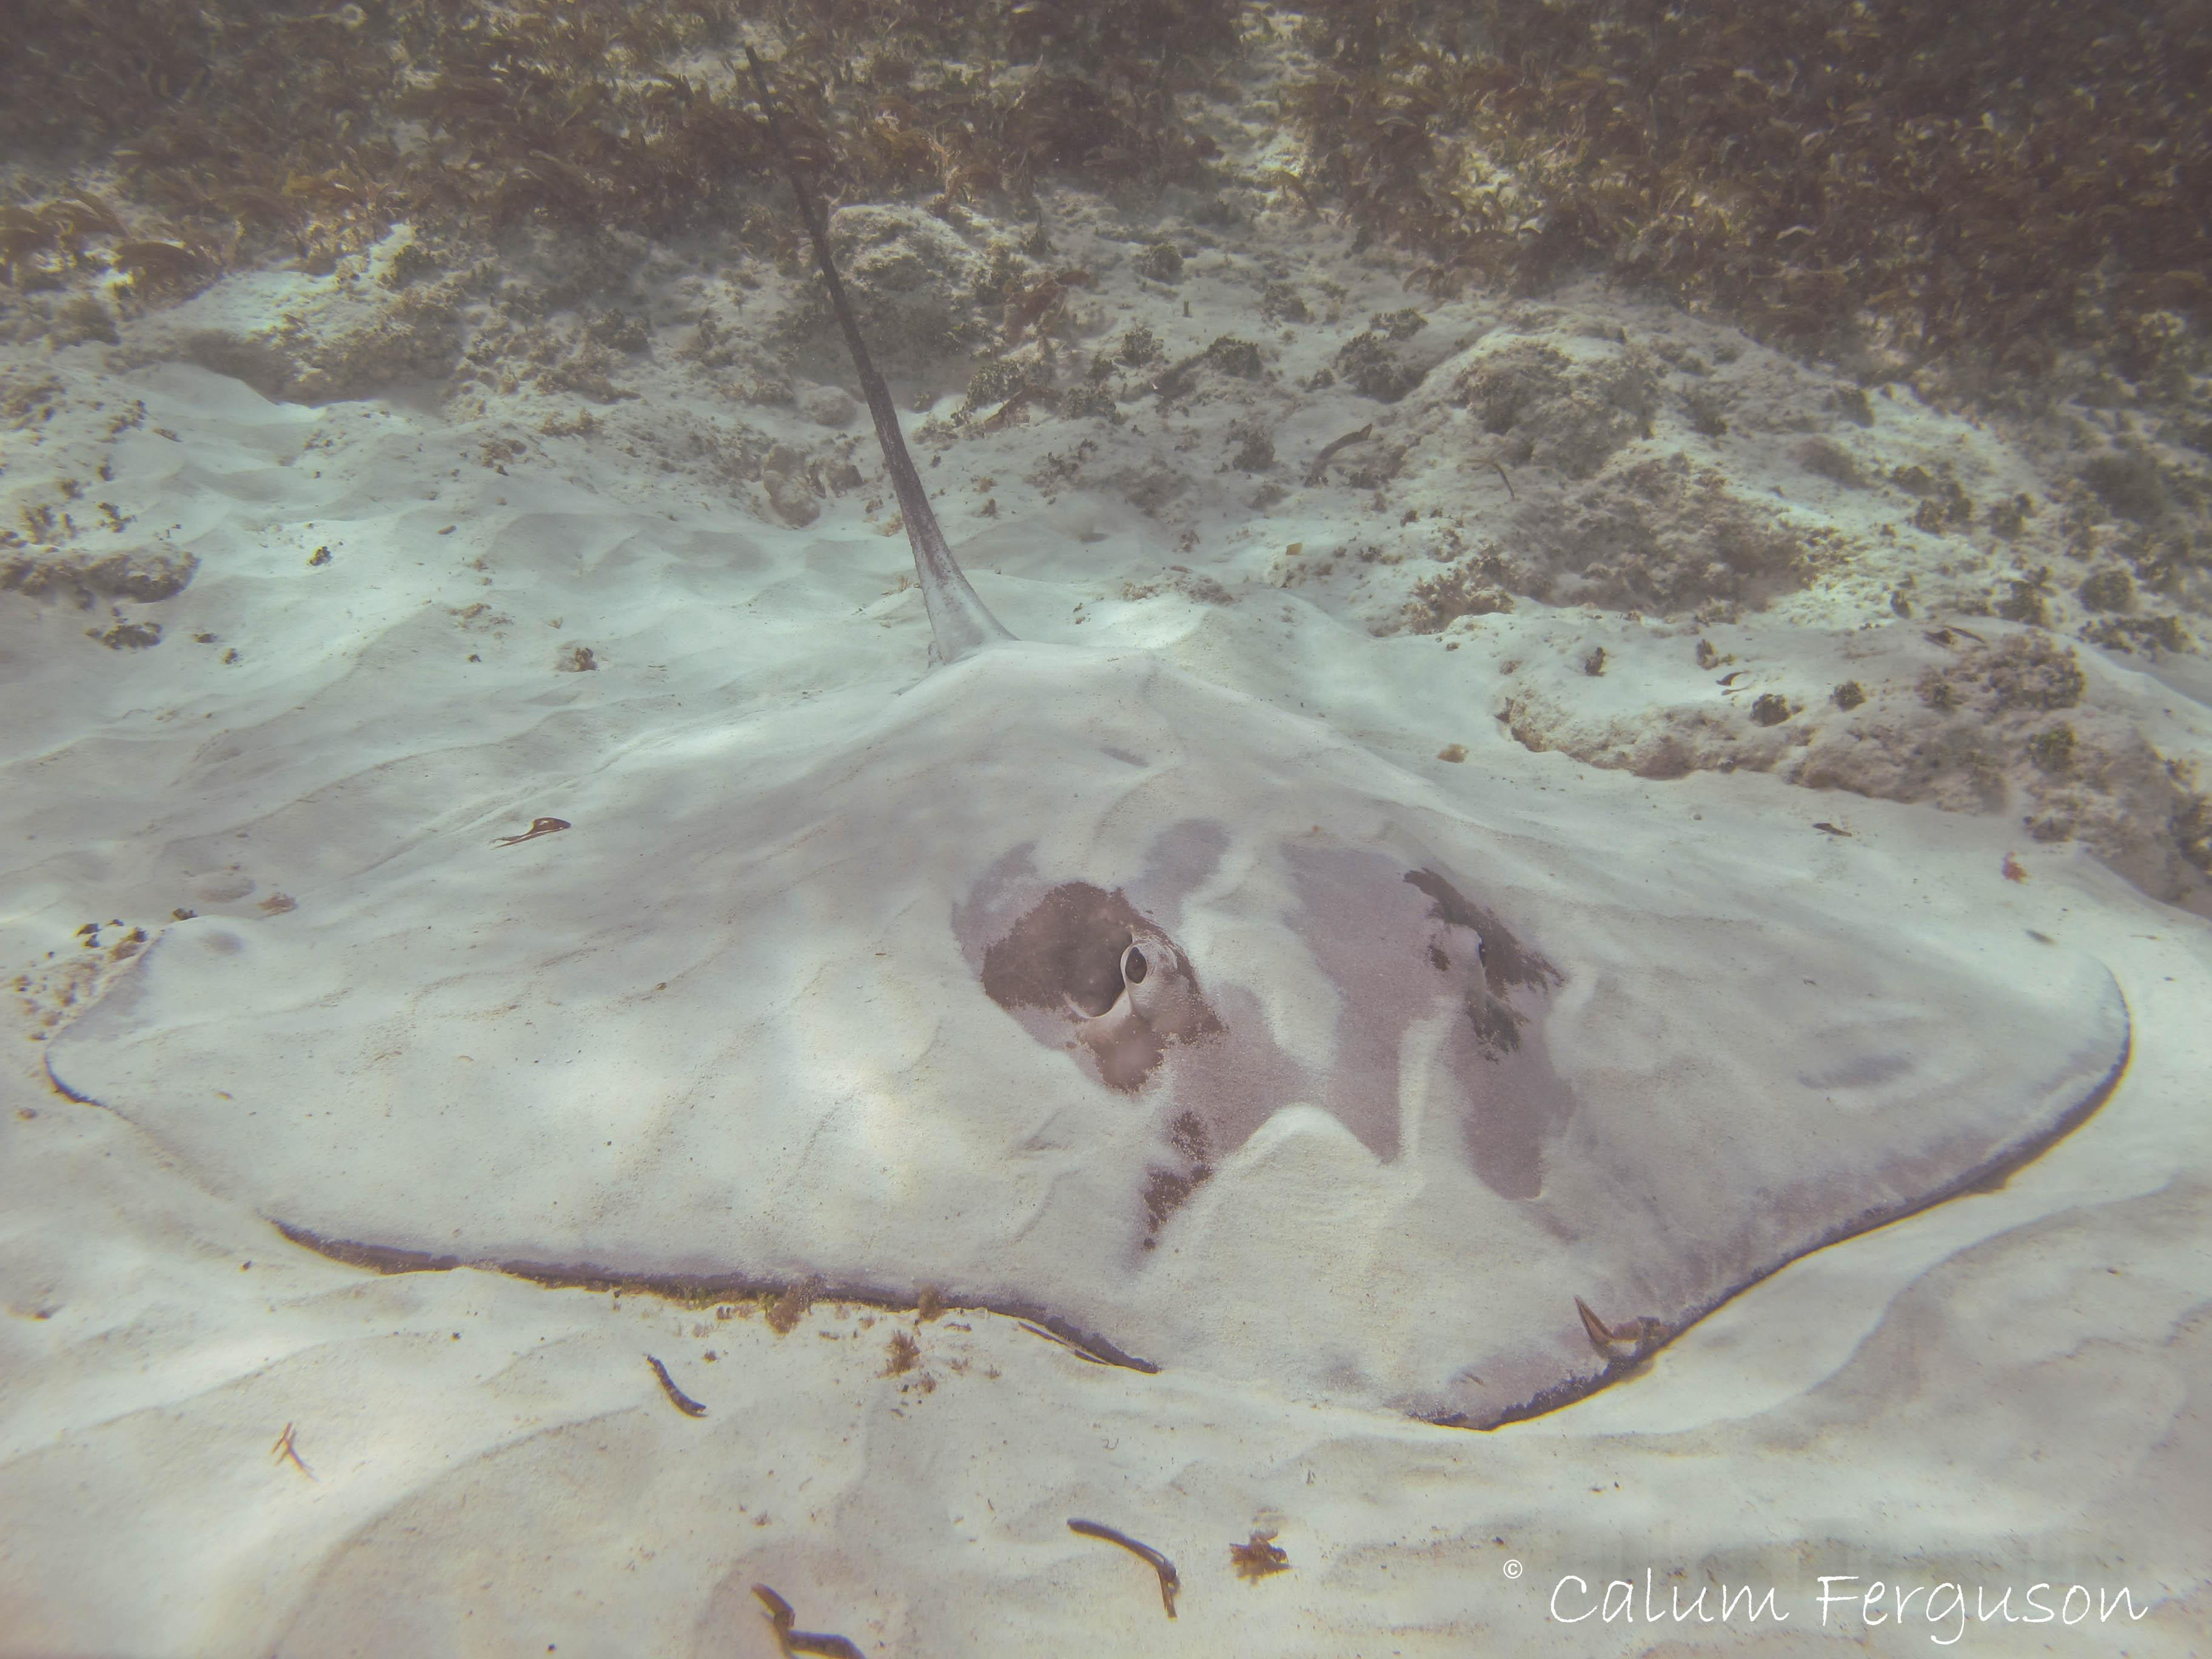Fish: (0, 0, 2212, 1450)
